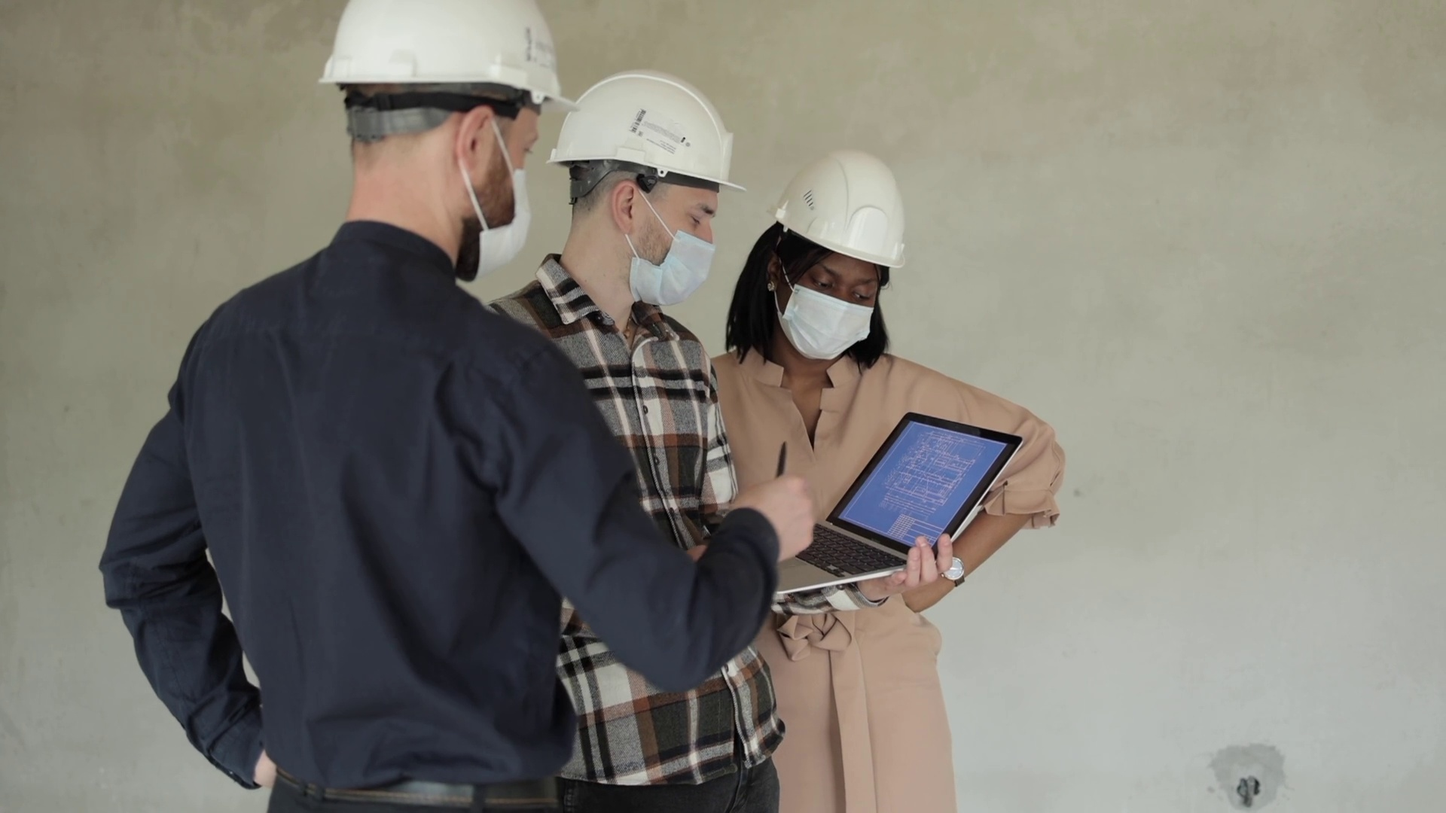helmet: (320, 0, 580, 112), (548, 71, 746, 192), (771, 150, 907, 269)
mask: (782, 284, 875, 361), (627, 230, 717, 307), (477, 166, 533, 282)
person: (98, 0, 816, 813), (488, 72, 953, 813), (708, 150, 1070, 813)
